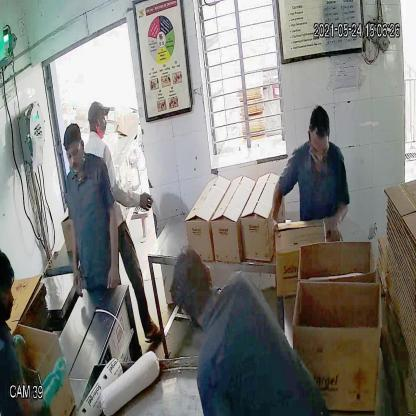goggles: (63, 143, 85, 163)
